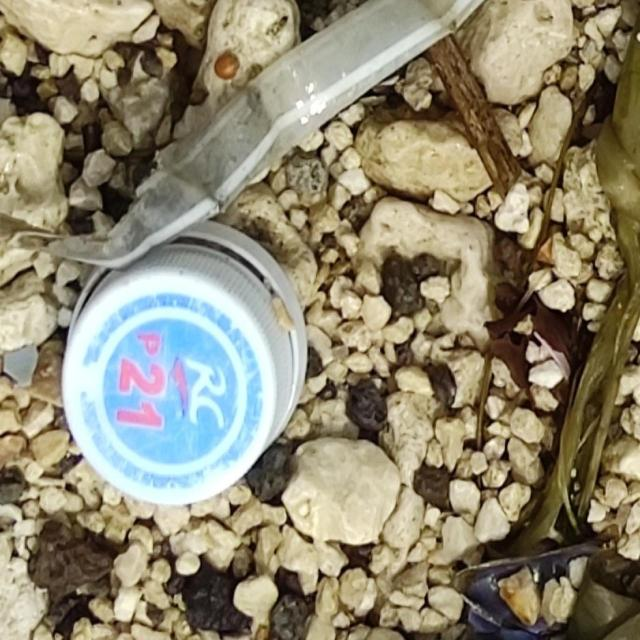plastic_waste: (59, 222, 308, 517)
